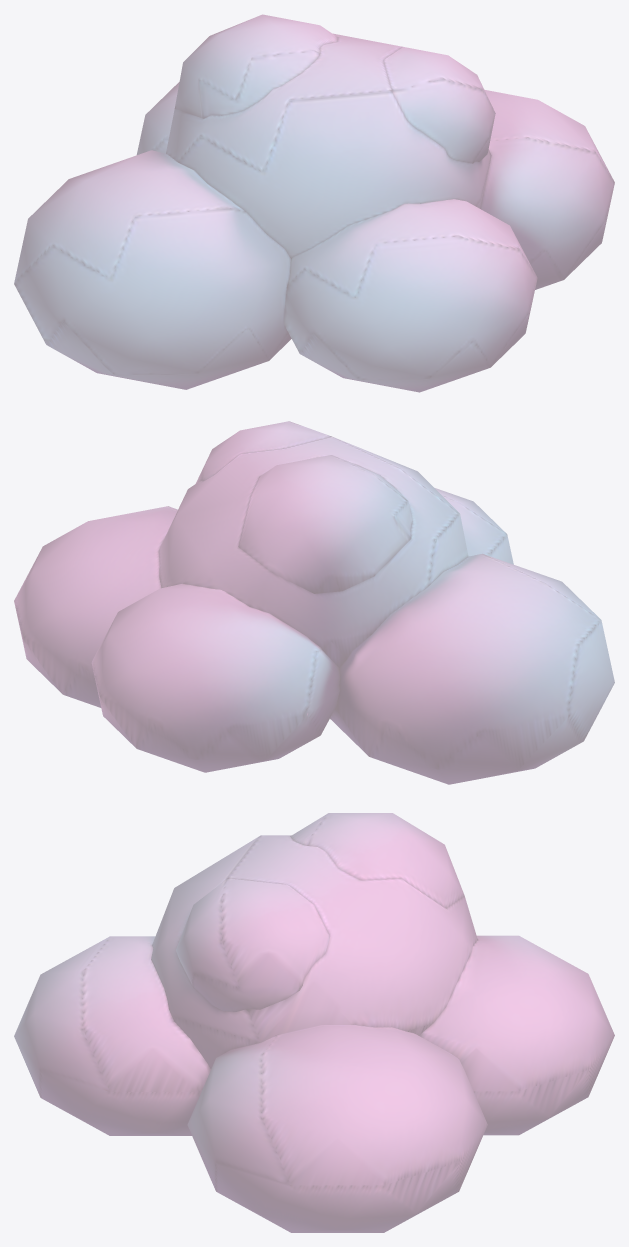
The model's file is hub-clouds.glb.
3 views of the same model, one above another, from view 1: azimuth 30°, elevation 25°; view 2: azimuth 150°, elevation 25°; view 3: azimuth 270°, elevation 25° (orthographic). The views are drawn at different scales.
Parts seen in each view (by area): view 1: cloud_primitive; view 2: cloud_primitive; view 3: cloud_primitive.
Boxes of the visible parts, x1,y1,x2,y2 form: cloud_primitive: [14, 14, 614, 392]; cloud_primitive: [14, 421, 614, 784]; cloud_primitive: [14, 813, 614, 1232].
Bounding box in the file's own units: 5.77 × 2.93 × 5.2.
Materials: 1 (1 with a texture image).
